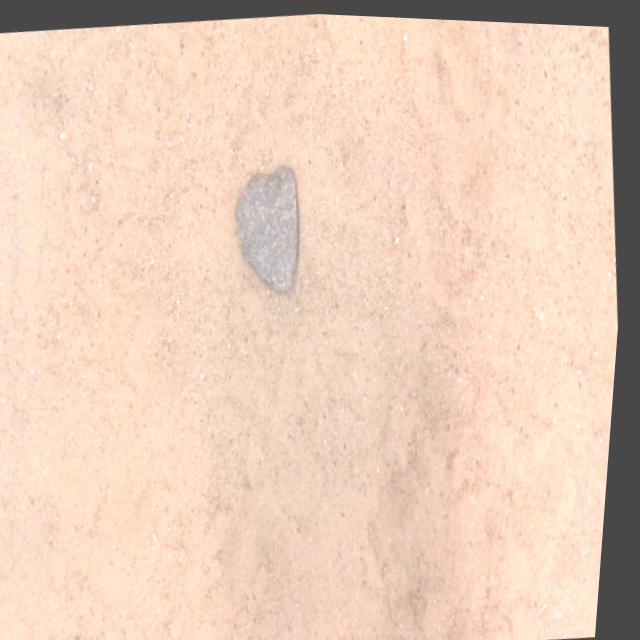rock: (238, 163, 300, 288)
